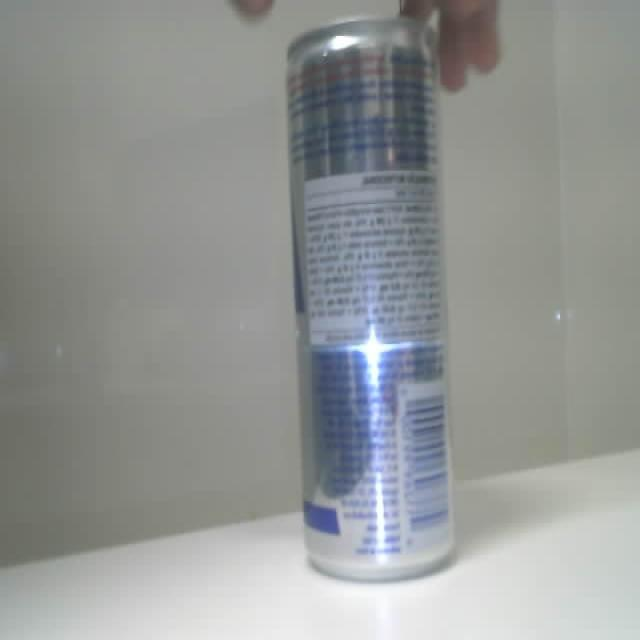redbull can: (287, 18, 453, 579)
